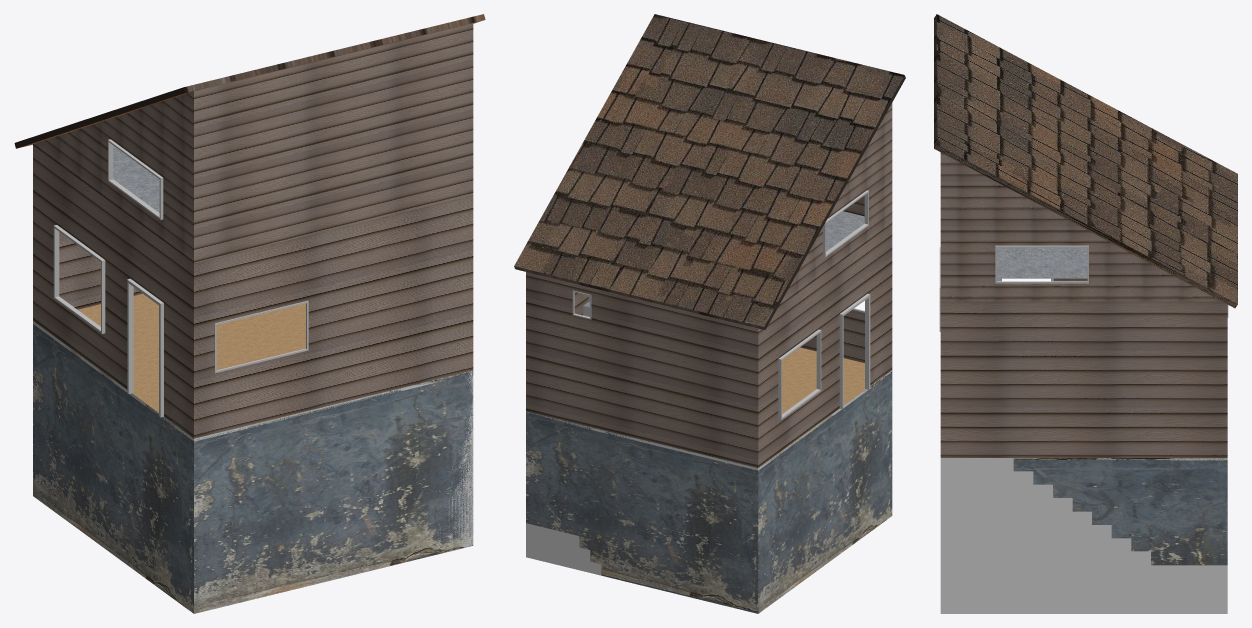
Rendered from naked house.gltf.
The picture shows the model from 3 angles, left to right: view 1: azimuth 30°, elevation 25°; view 2: azimuth 150°, elevation 25°; view 3: azimuth 270°, elevation 25°; orthographic projection. The views are drawn at different scales.
Parts seen in each view (by area): view 1: BASEMENT, first floor, attic, door, window.001, hople, KITCHEN WINDOW.001; view 2: attic, BASEMENT, first floor, door, window.001, hople; view 3: attic, first floor, BASEMENT, hople.
Part boxes in pixels (x1,y1,x2,y2): BASEMENT: [33, 294, 473, 613]; first floor: [33, 146, 473, 438]; attic: [14, 14, 485, 263]; door: [127, 278, 163, 417]; window.001: [53, 225, 105, 333]; hople: [108, 139, 163, 219]; KITCHEN WINDOW.001: [214, 300, 308, 373]; attic: [514, 14, 905, 329]; BASEMENT: [526, 347, 892, 613]; first floor: [526, 224, 892, 467]; door: [839, 293, 870, 409]; window.001: [778, 329, 821, 419]; hople: [823, 190, 868, 257]; attic: [934, 14, 1237, 308]; first floor: [940, 278, 1227, 457]; BASEMENT: [940, 458, 1227, 613]; hople: [995, 245, 1088, 283].
Bounding box in the file's own units: 5.38 × 9.09 × 5.29.
